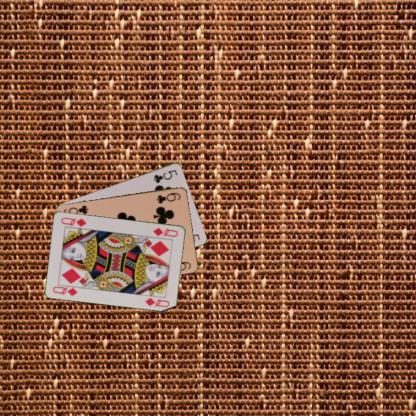5c: (151, 166, 178, 184)
6c: (154, 190, 182, 204)
Qd: (50, 281, 82, 297), (151, 225, 179, 238)
